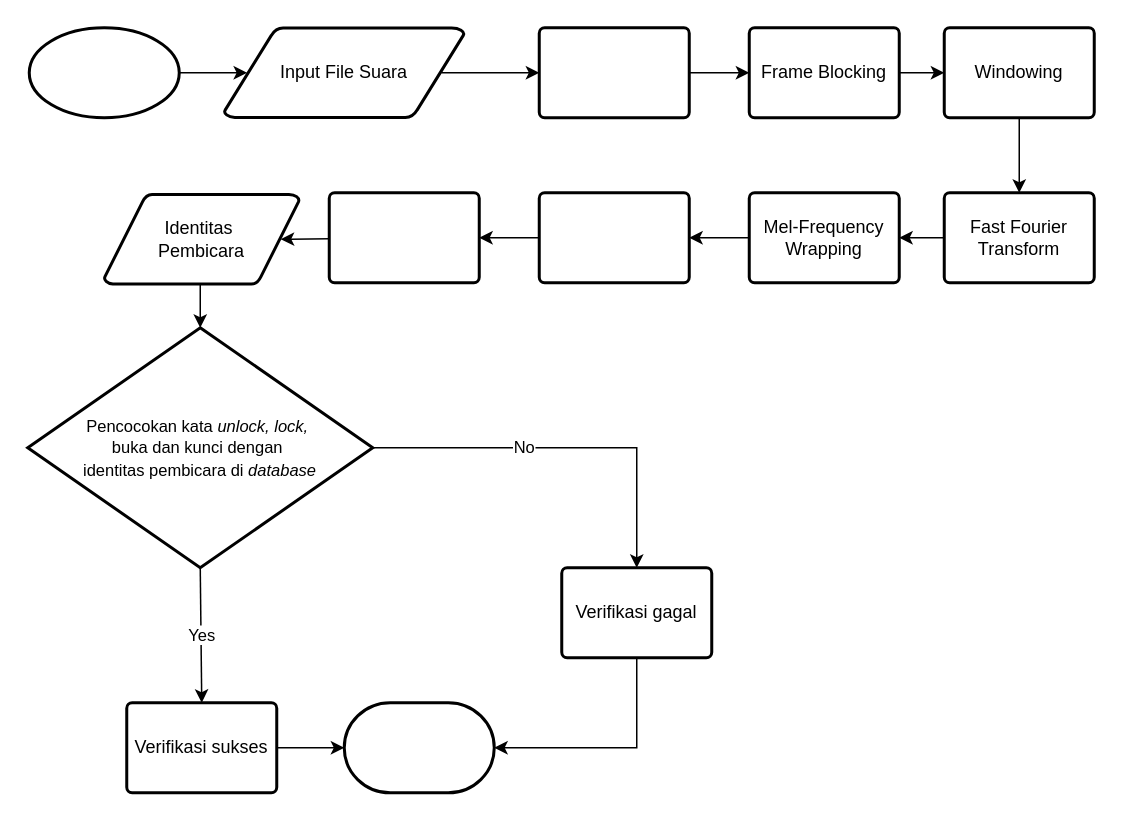
Image size: 1121x819. Some labels were removed from this diagram. Here are the shapes that lost their labels. From the top down, the centre of each, then its label:
At point (103, 72): "Start".
At point (613, 72): "Silence Removal".
At point (403, 237): "Perhitungan Bobot dengan LVQ".
At point (613, 237): "Discrete Cosine Transform".
At point (418, 747): "End".
